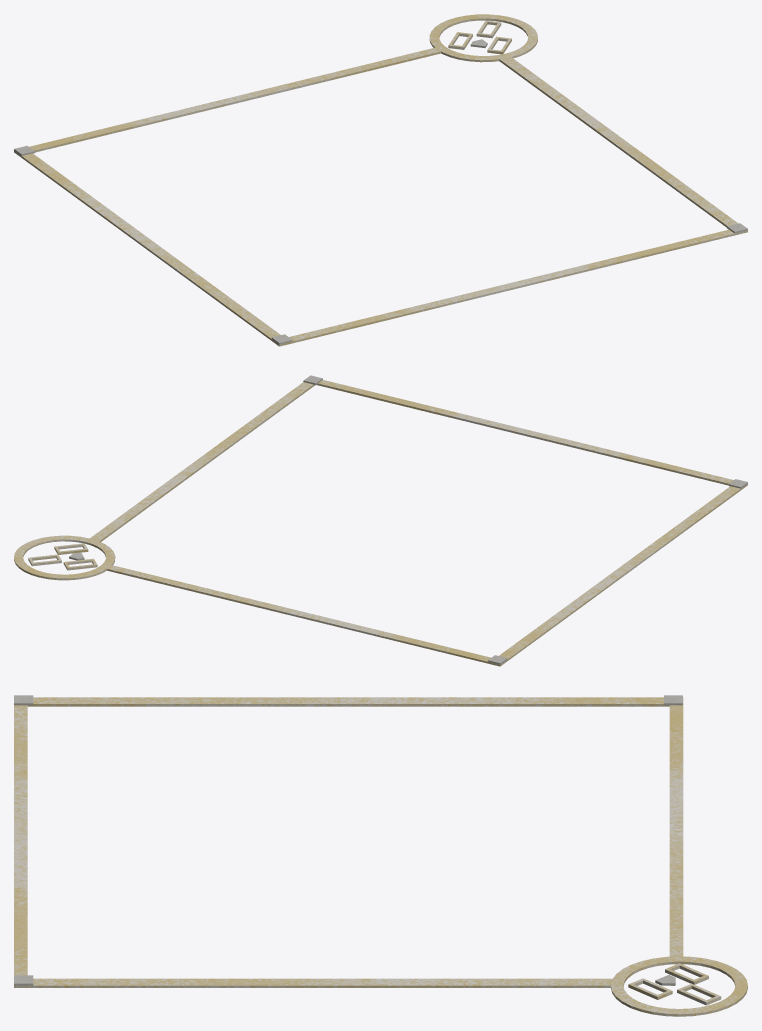
The model's file is baseball line .fbx.
3 views of the same model, one above another, from view 1: azimuth 30°, elevation 25°; view 2: azimuth 150°, elevation 25°; view 3: azimuth 270°, elevation 25° (orthographic). The views are drawn at different scales.
Visible parts, largest first — view 1: Cube.001, Cube.002; view 2: Cube.001, Cube.002; view 3: Cube.001, Cube.002.
Part boxes in pixels (x1,y1,x2,y2): Cube.001: [14, 14, 747, 346]; Cube.002: [14, 39, 747, 344]; Cube.001: [14, 380, 747, 666]; Cube.002: [69, 375, 747, 664]; Cube.001: [14, 697, 747, 1016]; Cube.002: [14, 695, 682, 985].
Bounding box in the file's own units: 7810 × 54.58 × 7639.
3 materials, 3 textured.
